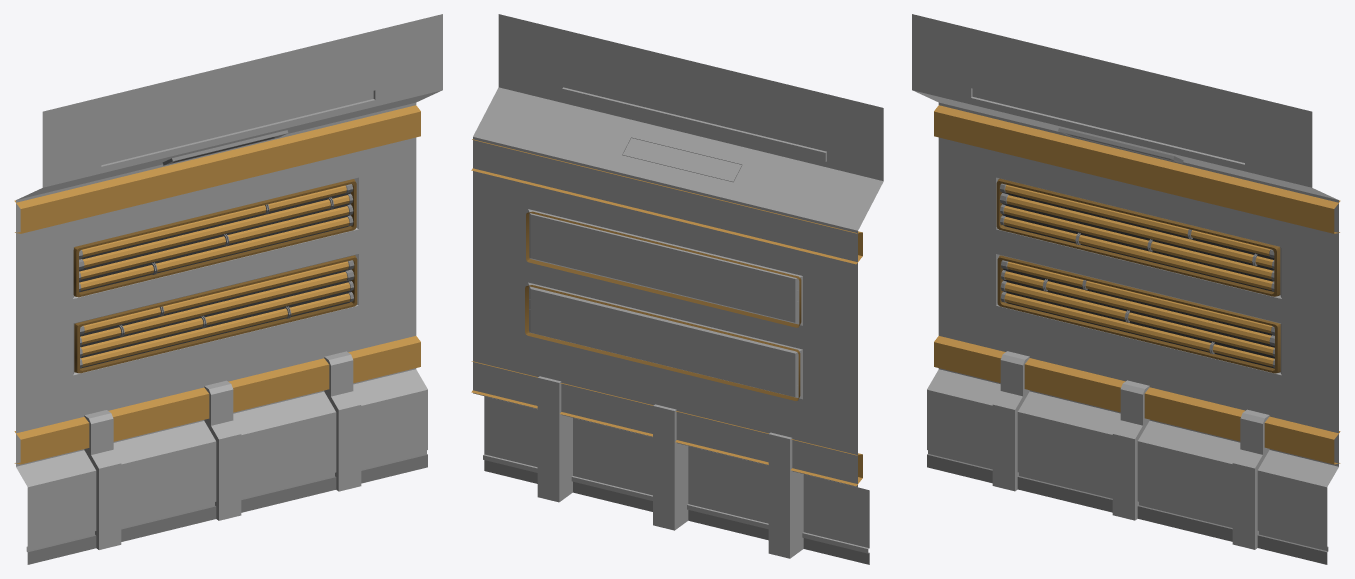
Rendered from Wall_5.fbx.
3 views of the same model, side by side, from view 1: azimuth 30°, elevation 25°; view 2: azimuth 150°, elevation 25°; view 3: azimuth 330°, elevation 25° (orthographic). The views are drawn at different scales.
Parts seen in each view (by area): view 1: Wall_5; view 2: Wall_5; view 3: Wall_5.
Part boxes in pixels (x1,y1,x2,y2): Wall_5: [14, 14, 442, 564]; Wall_5: [471, 14, 883, 564]; Wall_5: [912, 14, 1340, 564].
Bounding box in the file's own units: 4 × 4.43 × 0.5279.
